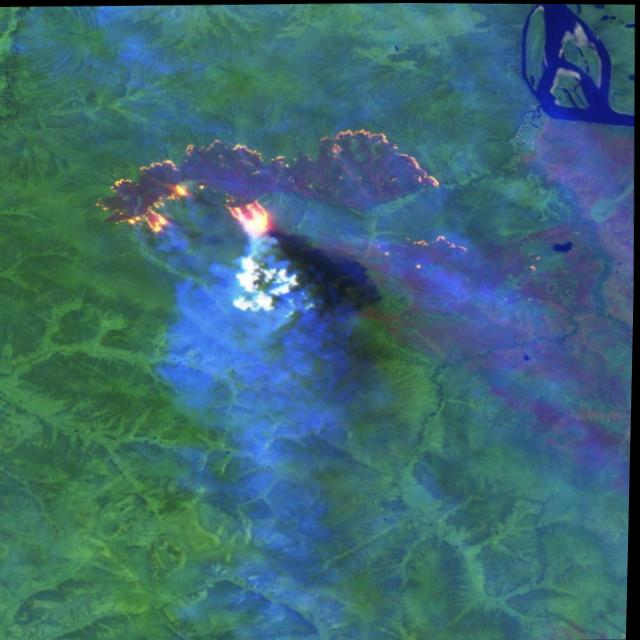fire: (72, 115, 483, 270)
